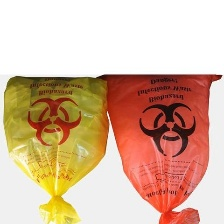plastic_bag: (90, 69, 224, 224), (0, 73, 113, 224)
